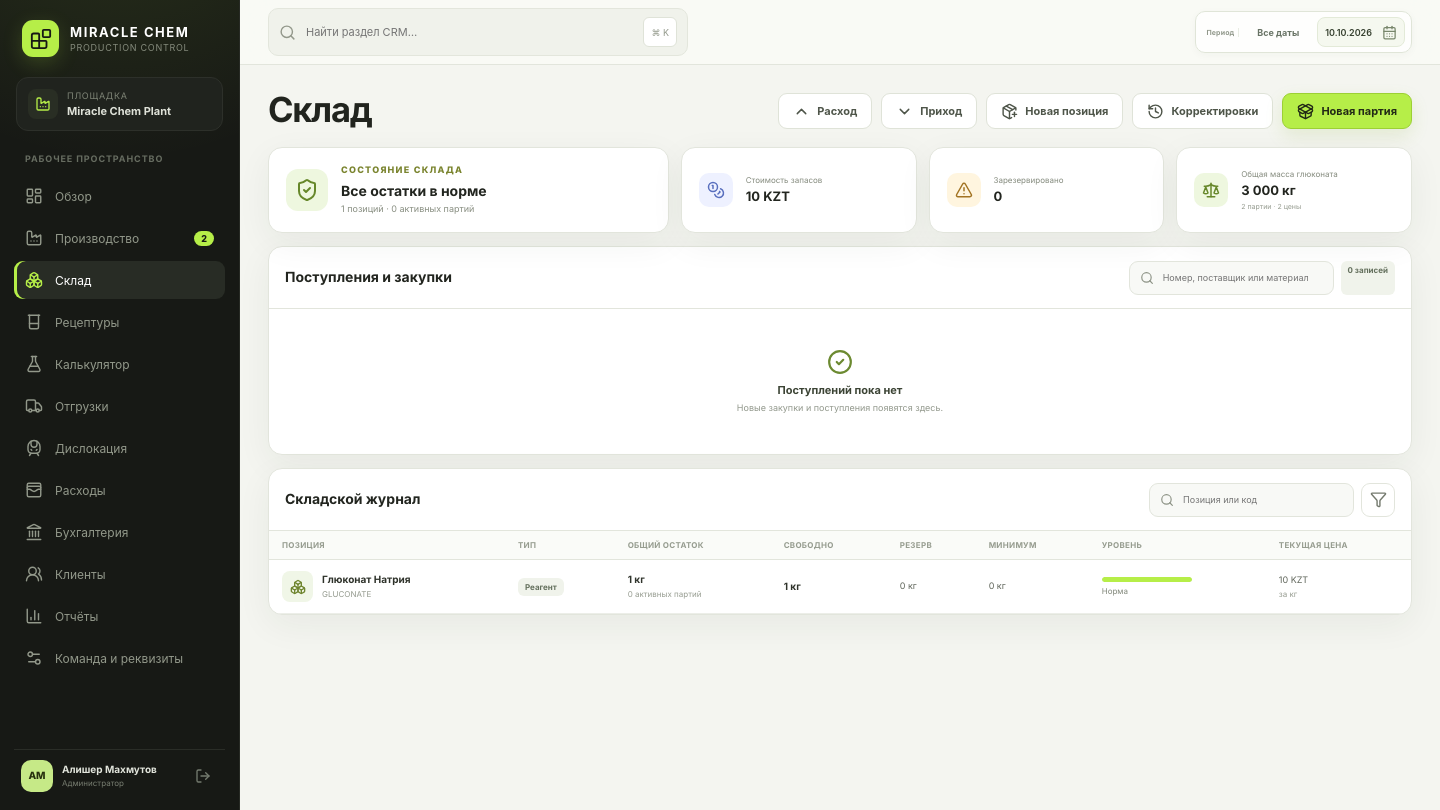
Miracle Chem app shell › shows imported receipts in the common purchase journal without creating CRM purchase batches
Expected: the heading "Склад" is shown, [268, 93, 371, 129]
Click the button "Все даты".
click(1278, 32)  # box [1247, 17, 1309, 47]
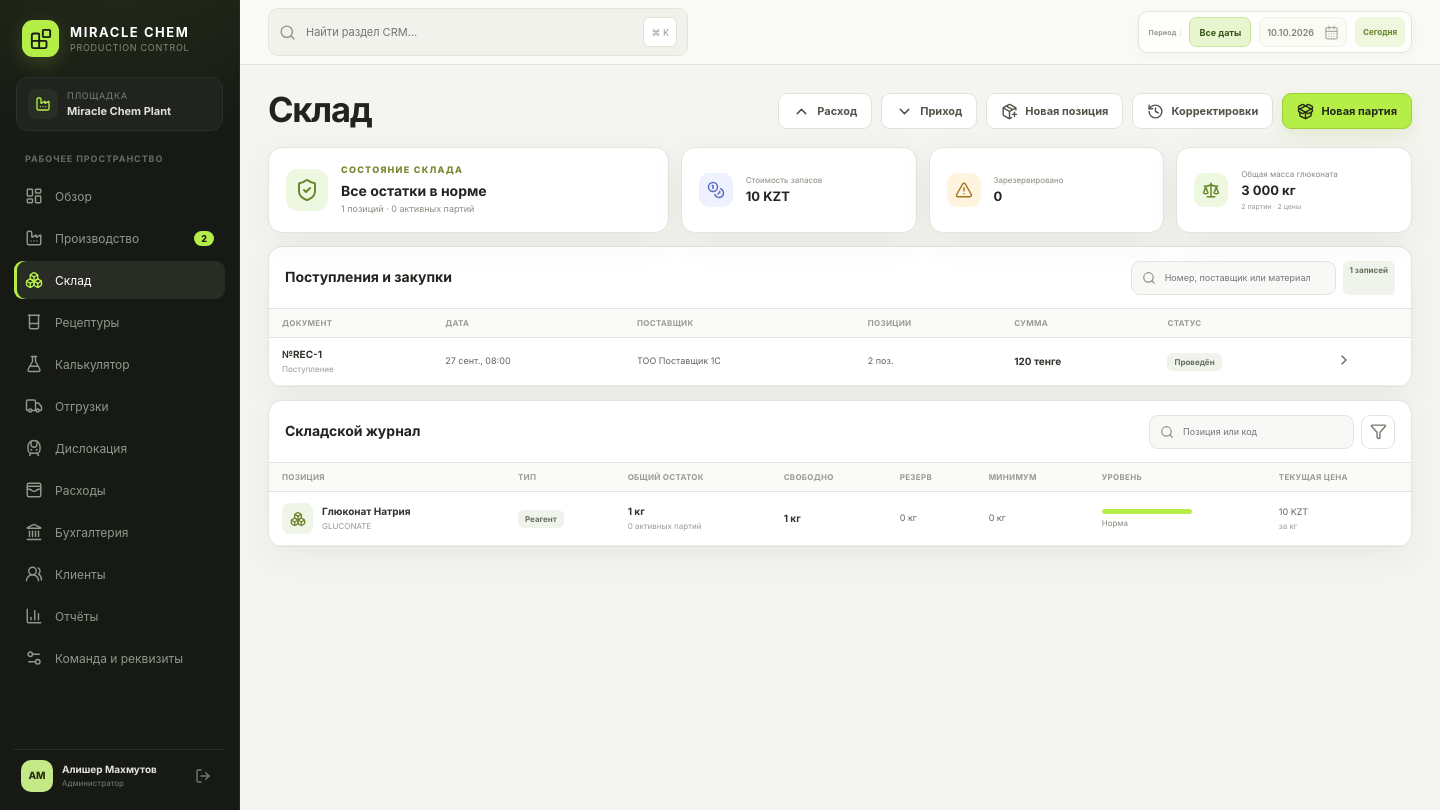
Expected: the heading "Поступления и закупки" is shown, [285, 269, 452, 286]
Type "REC-1" into the field named "Поиск по поступлениям".
click(1244, 278); type("REC-1")  # box [1163, 262, 1324, 294]
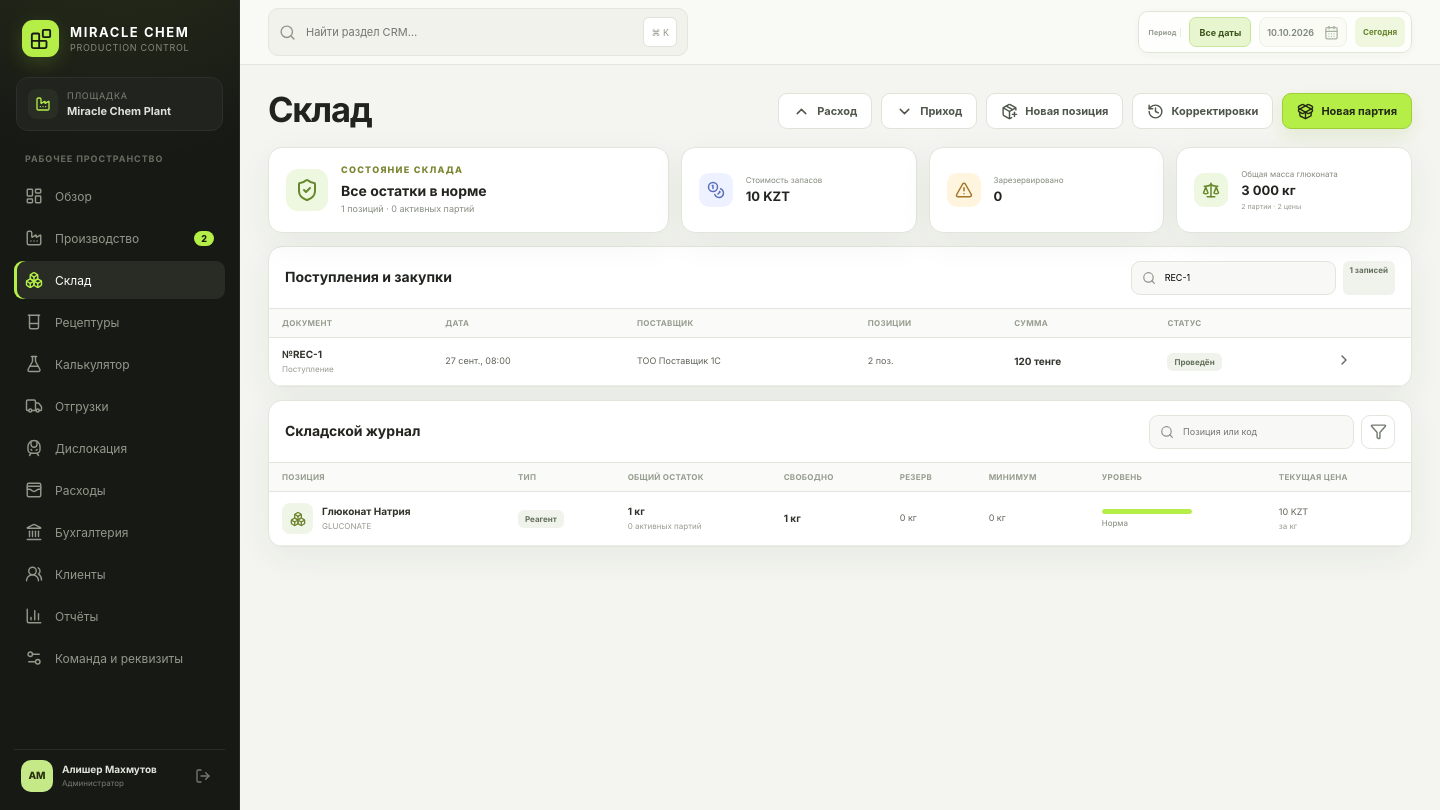
Result: the text "№REC-1" is shown
Click the text "№REC-1".
click(302, 355)  # box [282, 349, 322, 361]
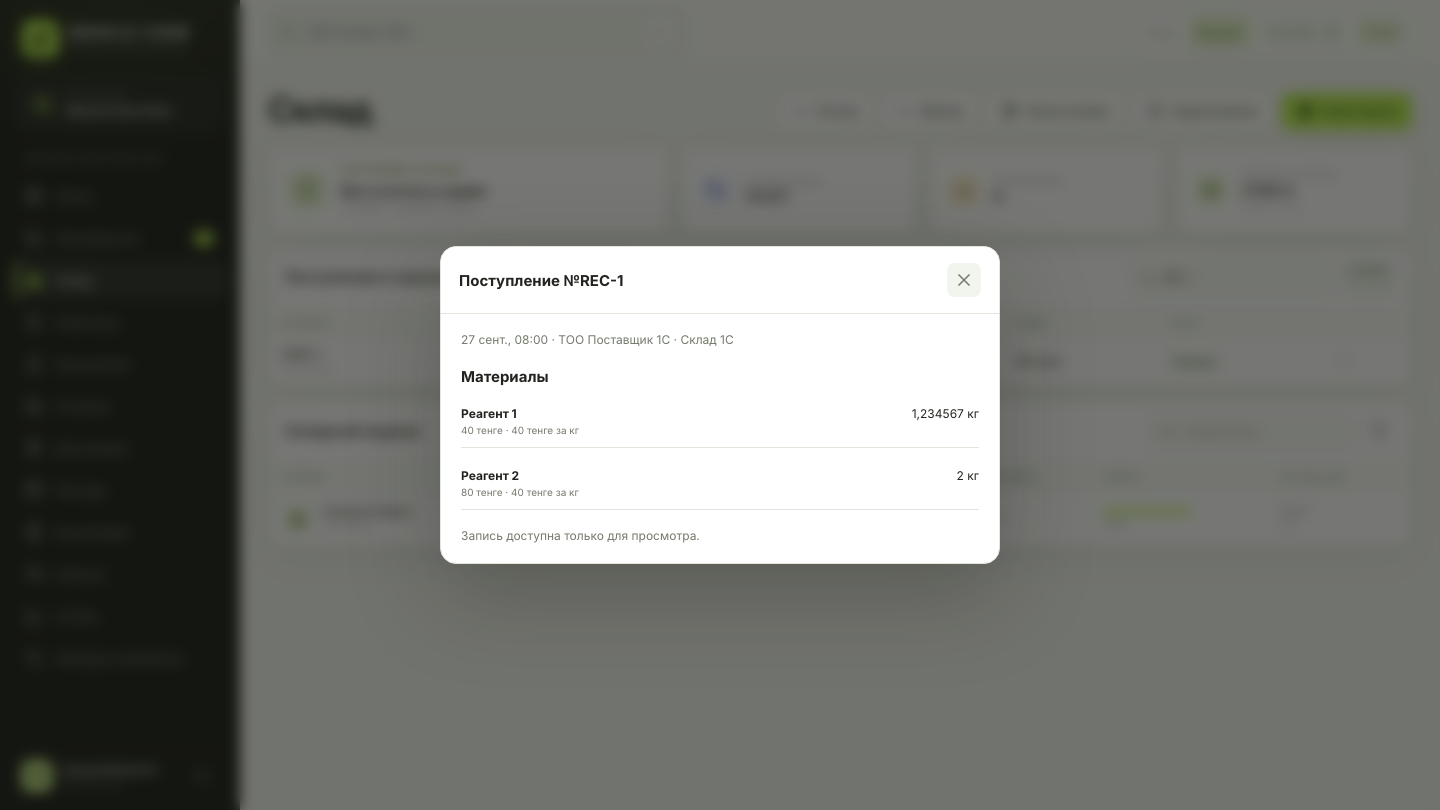
Result: the text "ТОО Поставщик 1С" is shown at [624, 338, 855, 386]
Result: the text "1,234567 кг" is shown at [912, 406, 979, 421]
Result: the text "Запись доступна только для просмотра." is shown at [461, 528, 700, 543]
